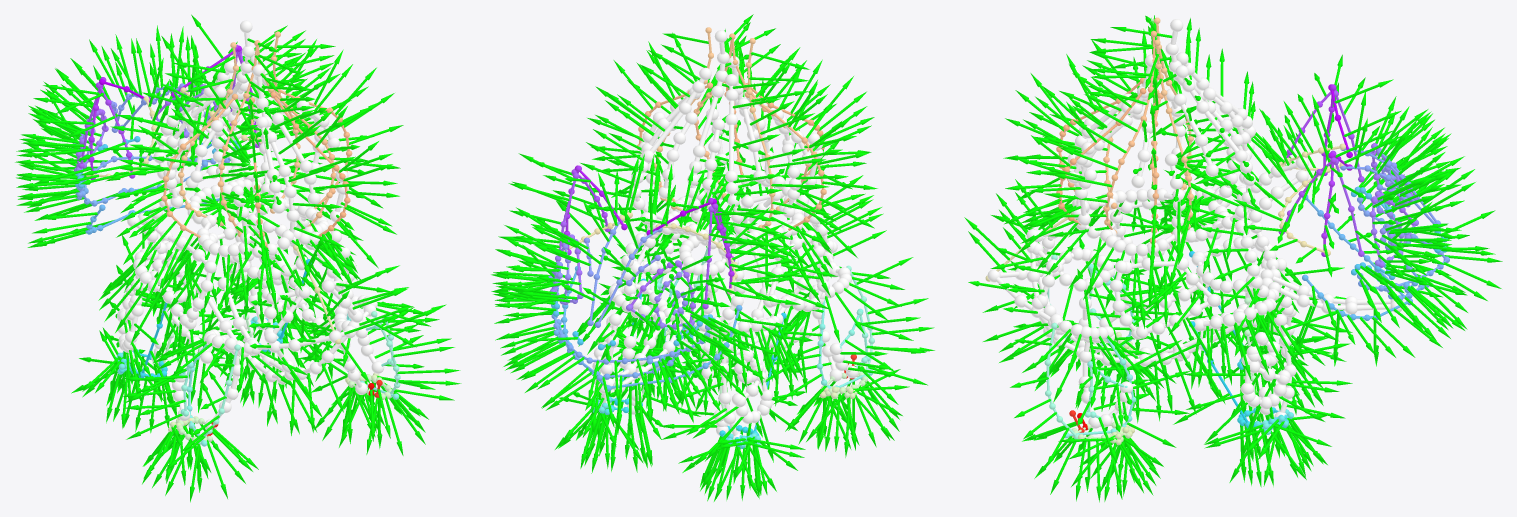
Rendered from author1_bulbasaur.gltf.
The picture shows the model from 3 angles, left to right: view 1: azimuth 30°, elevation 25°; view 2: azimuth 150°, elevation 25°; view 3: azimuth 270°, elevation 25°; orthographic projection. The views are drawn at different scales.
Bounding box in the file's own units: 0.5667 × 0.7237 × 0.8179.
